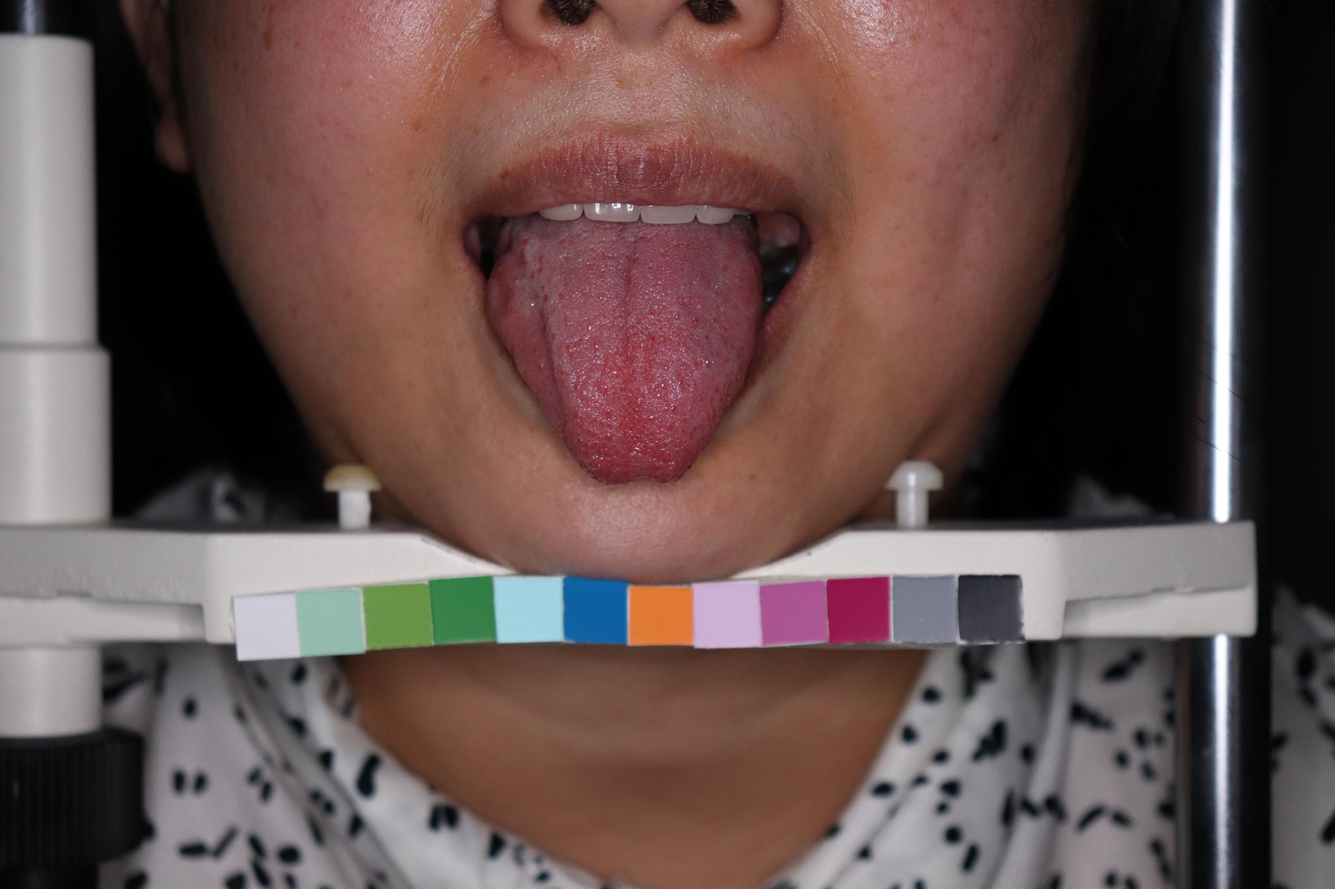baitaishe: (483, 205, 763, 485)
hongdianshe: (658, 380, 667, 389), (713, 384, 720, 395), (548, 331, 555, 341), (675, 378, 683, 386), (586, 427, 593, 436), (576, 435, 583, 444), (632, 404, 639, 412), (702, 333, 710, 340), (692, 317, 697, 325)
hongshe: (482, 205, 762, 485)
